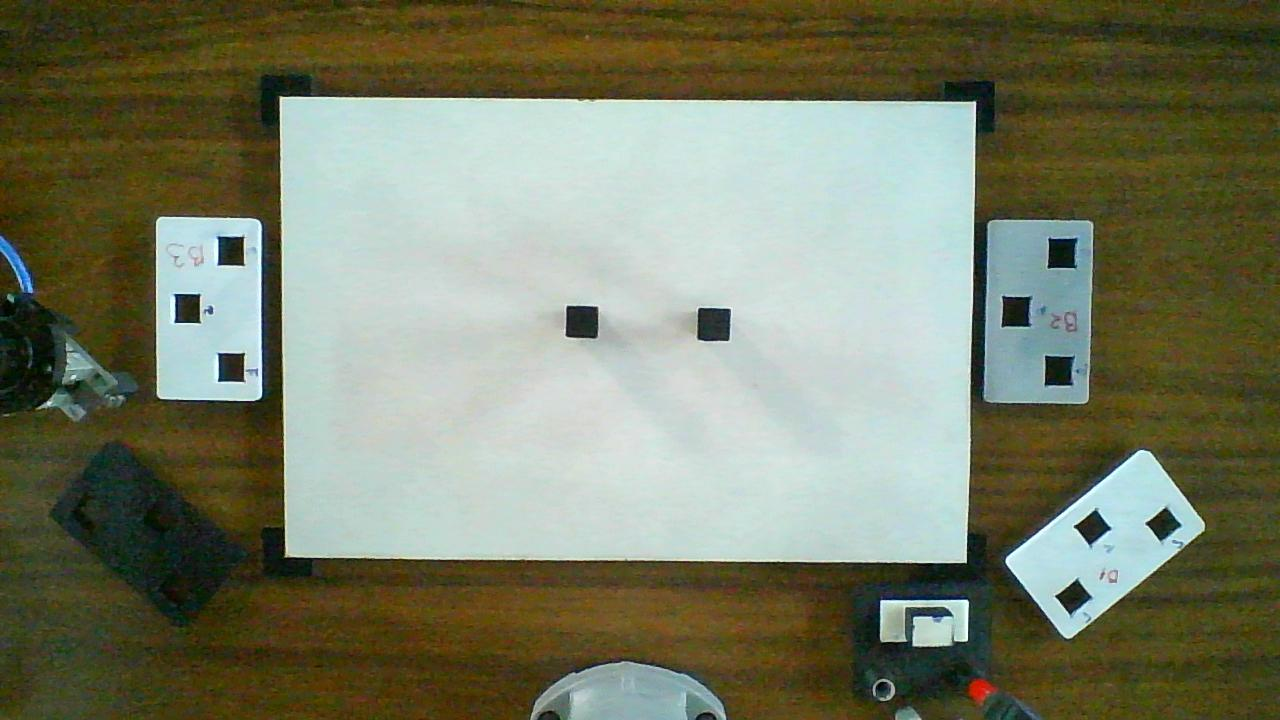peca_preta: (699, 309, 730, 340), (567, 306, 596, 337)
